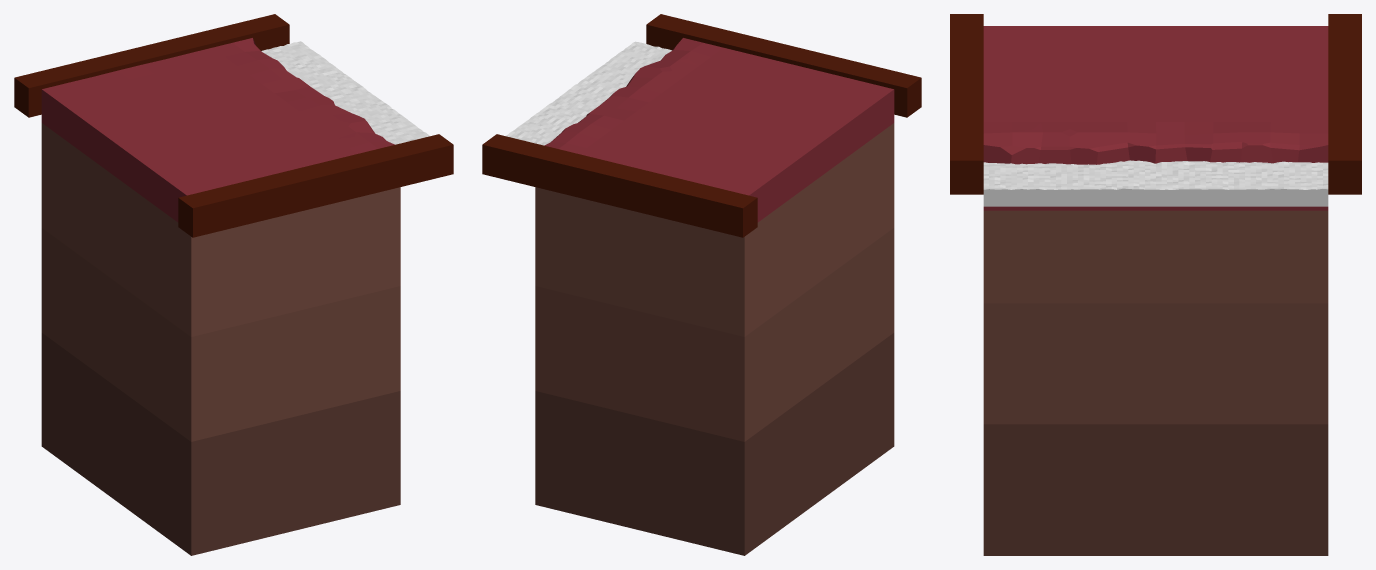
The model's file is Plano10.fbx.
3 renders of one model, left to right at view 1: azimuth 30°, elevation 25°; view 2: azimuth 150°, elevation 25°; view 3: azimuth 270°, elevation 25°, orthographic. The views are drawn at different scales.
Parts seen in each view (by area): view 1: Plane.005, Plane.043, Cube.1720, Plane.044; view 2: Plane.005, Plane.043, Cube.1720, Plane.044; view 3: Plane.005, Plane.043, Plane.044, Cube.1720.
Boxes of the visible parts, box(x1,y1,x2,y2) form: Plane.005: box(41, 123, 400, 555); Plane.043: box(41, 38, 394, 222); Cube.1720: box(14, 14, 453, 237); Plane.044: box(261, 41, 429, 144); Plane.005: box(535, 123, 894, 555); Plane.043: box(544, 38, 894, 222); Cube.1720: box(482, 14, 921, 237); Plane.044: box(505, 41, 671, 145); Plane.005: box(983, 210, 1328, 555); Plane.043: box(983, 26, 1328, 210); Plane.044: box(983, 160, 1328, 206); Cube.1720: box(950, 14, 1361, 194).
Size of the model in its own units: 840 by 1067 by 955.
